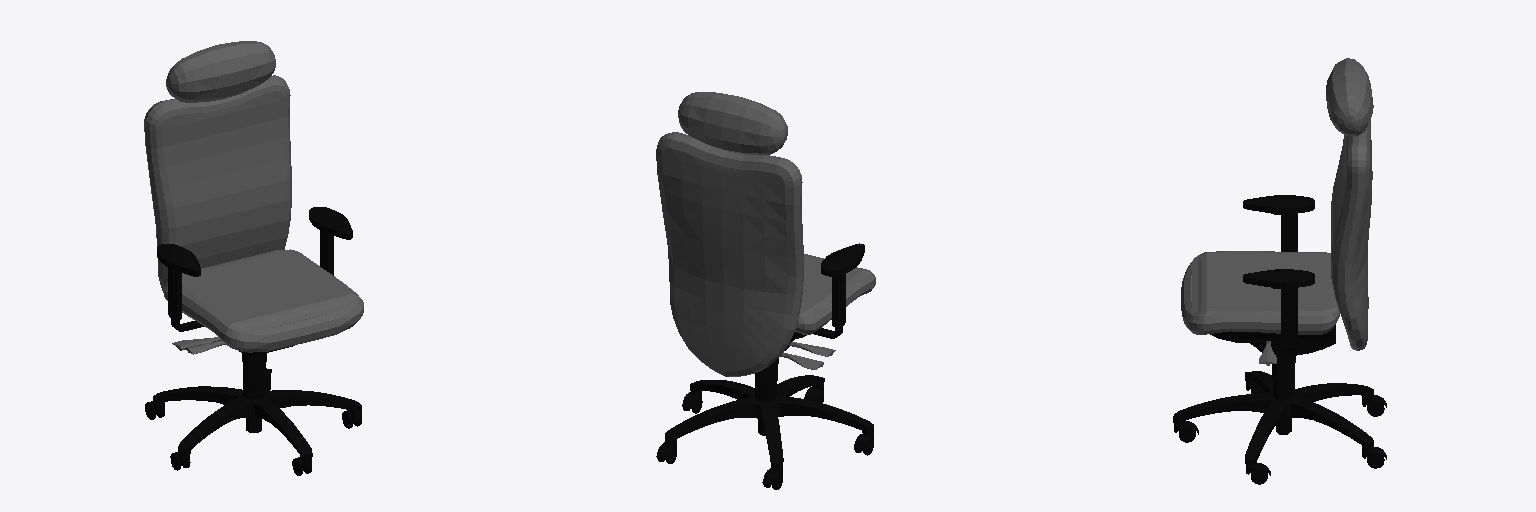
The model's file is officeChair3.obj.
3 views of the same model, side by side, from view 1: azimuth 30°, elevation 25°; view 2: azimuth 150°, elevation 25°; view 3: azimuth 270°, elevation 25° (orthographic).
Visible parts, largest first — view 1: OfficeChair3_1, OfficeChair3_6, OfficeChair3_7, OfficeChair3_3, OfficeChair3_4, OfficeChair3_2, OfficeChair3_9; view 2: OfficeChair3_1, OfficeChair3_7, OfficeChair3_3, OfficeChair3_6, OfficeChair3_4, OfficeChair3_8, OfficeChair3_2, OfficeChair3_9; view 3: OfficeChair3_6, OfficeChair3_1, OfficeChair3_3, OfficeChair3_4, OfficeChair3_7, OfficeChair3_5, OfficeChair3_2, OfficeChair3_9, OfficeChair3_8.
Part boxes in pixels (bbox=[...]): OfficeChair3_1: bbox=[144, 75, 291, 292]; OfficeChair3_6: bbox=[164, 249, 363, 352]; OfficeChair3_7: bbox=[166, 41, 275, 354]; OfficeChair3_3: bbox=[153, 368, 361, 461]; OfficeChair3_4: bbox=[157, 207, 352, 331]; OfficeChair3_2: bbox=[242, 353, 266, 432]; OfficeChair3_9: bbox=[145, 385, 361, 475]; OfficeChair3_1: bbox=[656, 132, 803, 376]; OfficeChair3_7: bbox=[678, 92, 835, 369]; OfficeChair3_3: bbox=[665, 375, 873, 469]; OfficeChair3_6: bbox=[795, 254, 875, 334]; OfficeChair3_4: bbox=[813, 243, 864, 338]; OfficeChair3_8: bbox=[656, 386, 873, 485]; OfficeChair3_2: bbox=[755, 358, 778, 435]; OfficeChair3_9: bbox=[657, 391, 873, 489]; OfficeChair3_6: bbox=[1181, 251, 1339, 334]; OfficeChair3_1: bbox=[1331, 119, 1372, 350]; OfficeChair3_3: bbox=[1173, 371, 1373, 466]; OfficeChair3_4: bbox=[1243, 195, 1314, 350]; OfficeChair3_7: bbox=[1259, 58, 1373, 365]; OfficeChair3_5: bbox=[1210, 325, 1335, 355]; OfficeChair3_2: bbox=[1272, 356, 1295, 434]; OfficeChair3_9: bbox=[1179, 384, 1384, 484]; OfficeChair3_8: bbox=[1174, 382, 1386, 475].
Bounding box in the file's own units: 55.89 × 107 × 56.35.